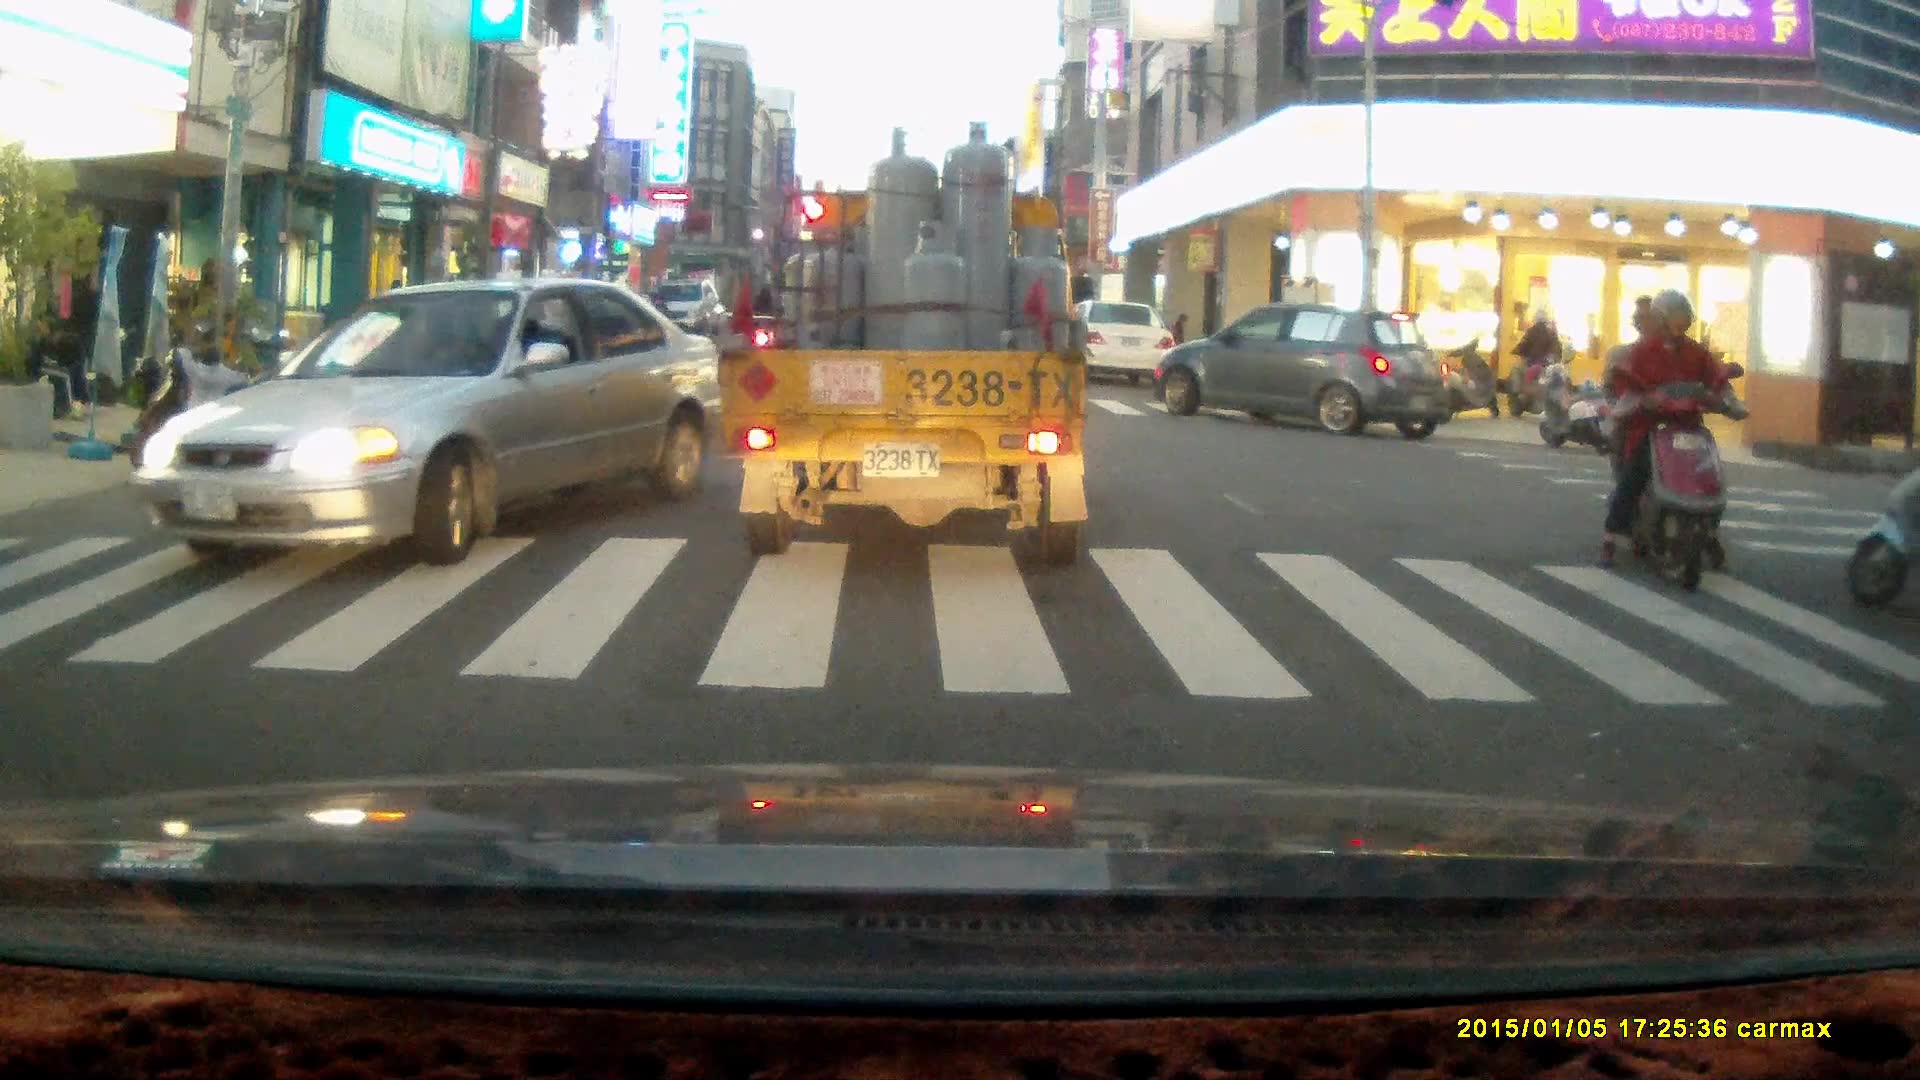pedestrian: (175, 341, 251, 460), (1167, 310, 1188, 374)
rider: (1590, 288, 1744, 590), (1504, 305, 1568, 421)
vehicle: (715, 118, 1094, 576), (130, 277, 722, 571), (1156, 303, 1462, 441), (1055, 300, 1170, 383)
